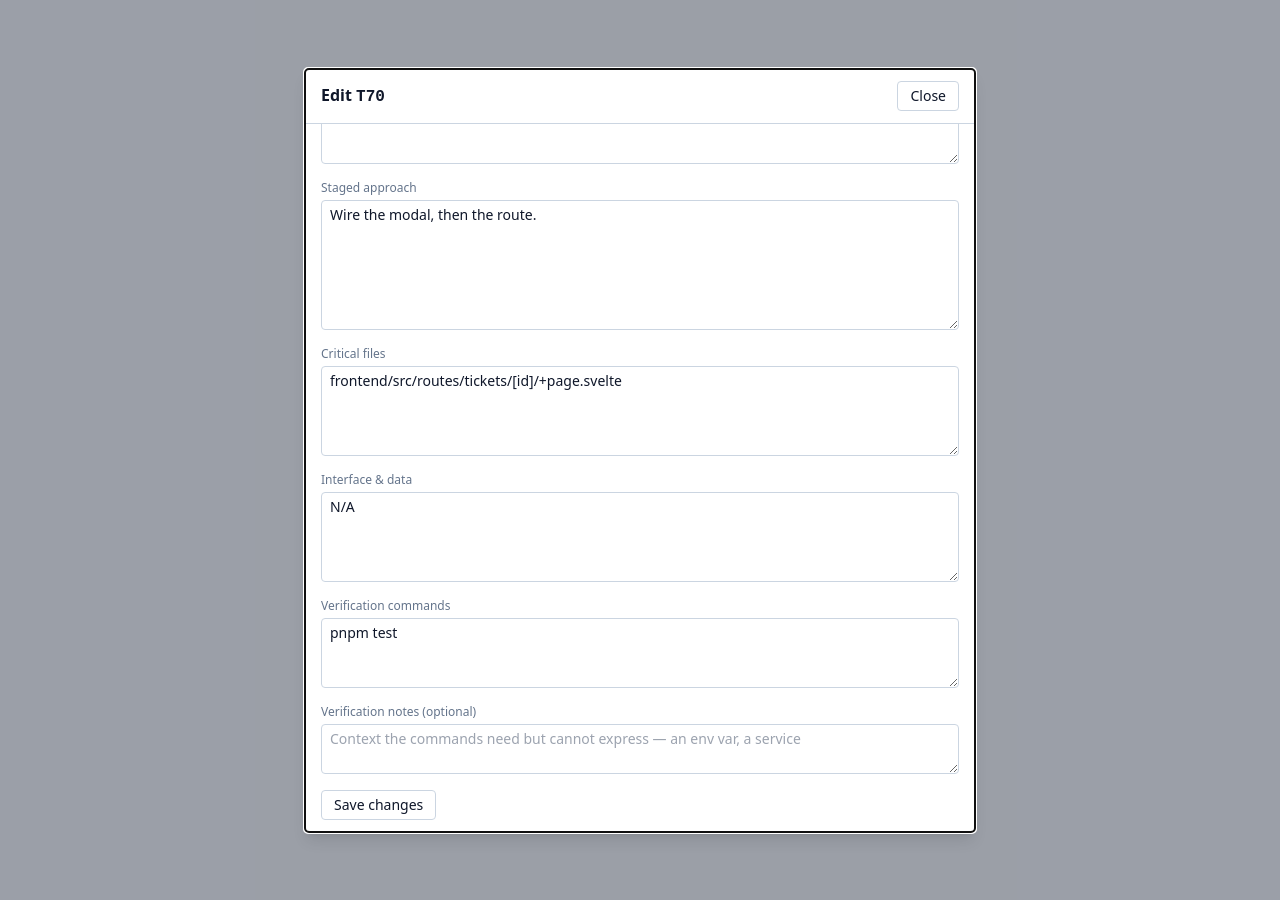
Test case: EditTicketModal › renders a failed apply as an ApiErrorView and does not report saved
(page scrolled)
Click the button "Save changes": (379, 804) [321,790,436,820]
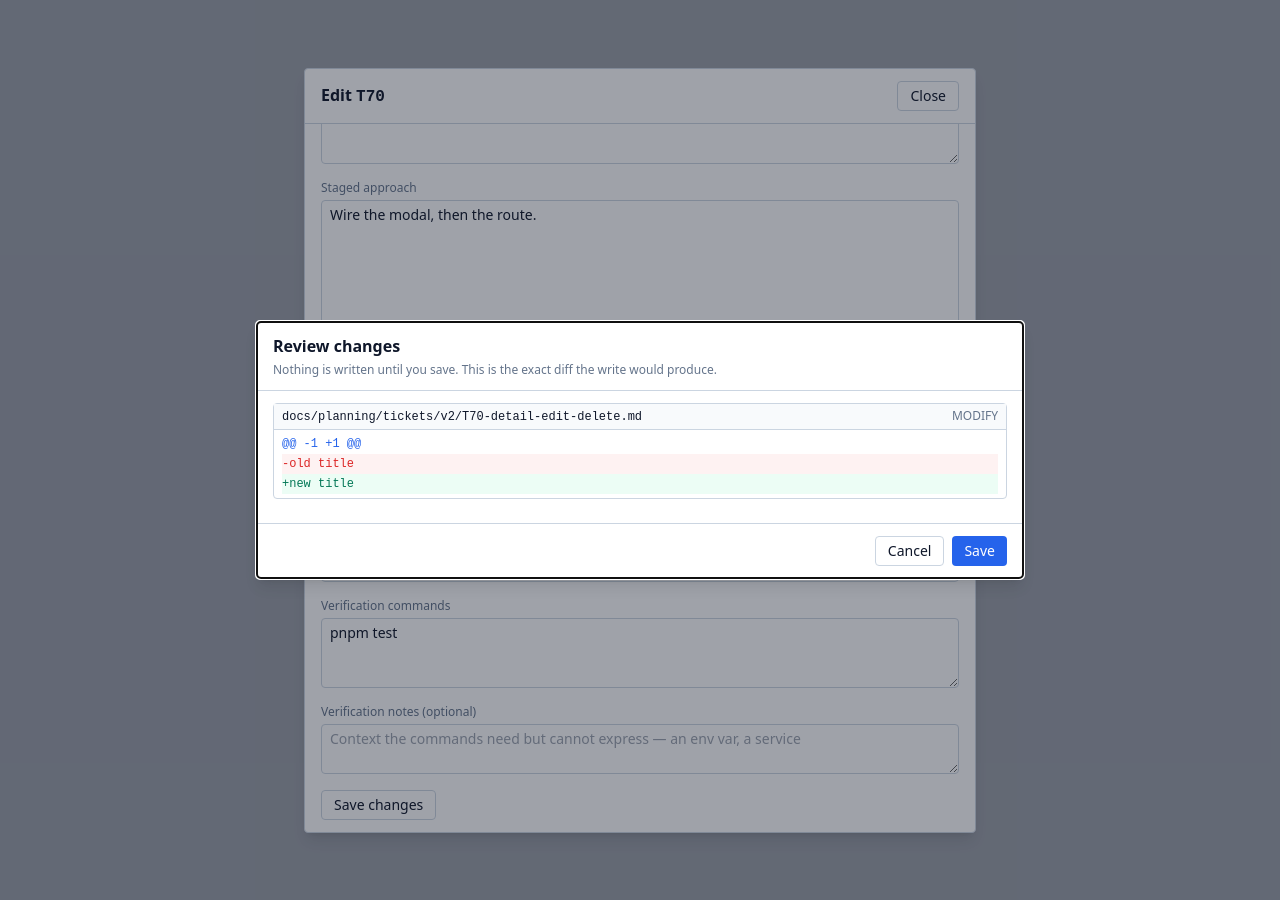
Click the button "Save": (980, 551) [952,536,1007,566]
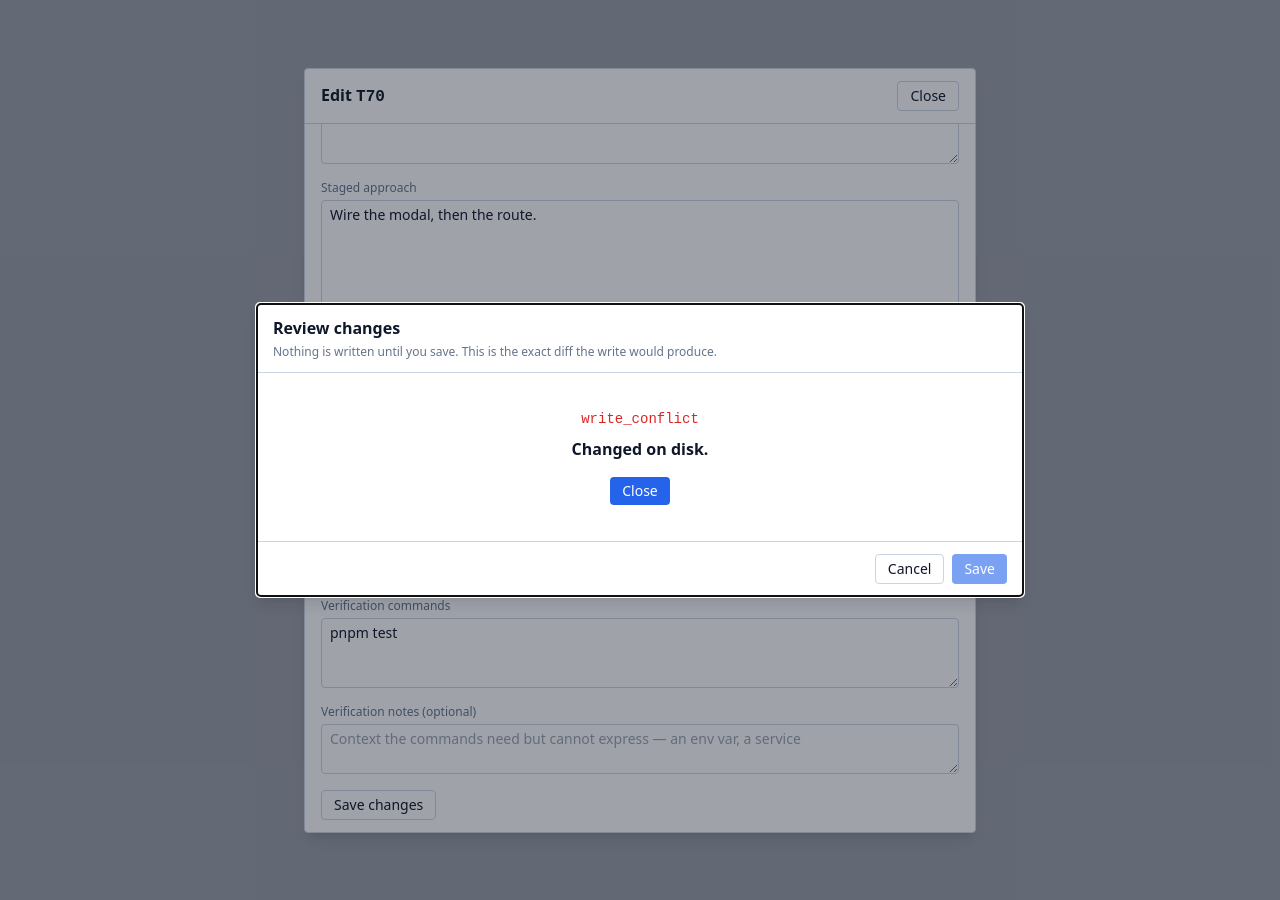
Check: the text "write_conflict" is shown, box [581,411,699,427]
Check: the heading "Changed on disk." is shown, box [572,438,708,460]
